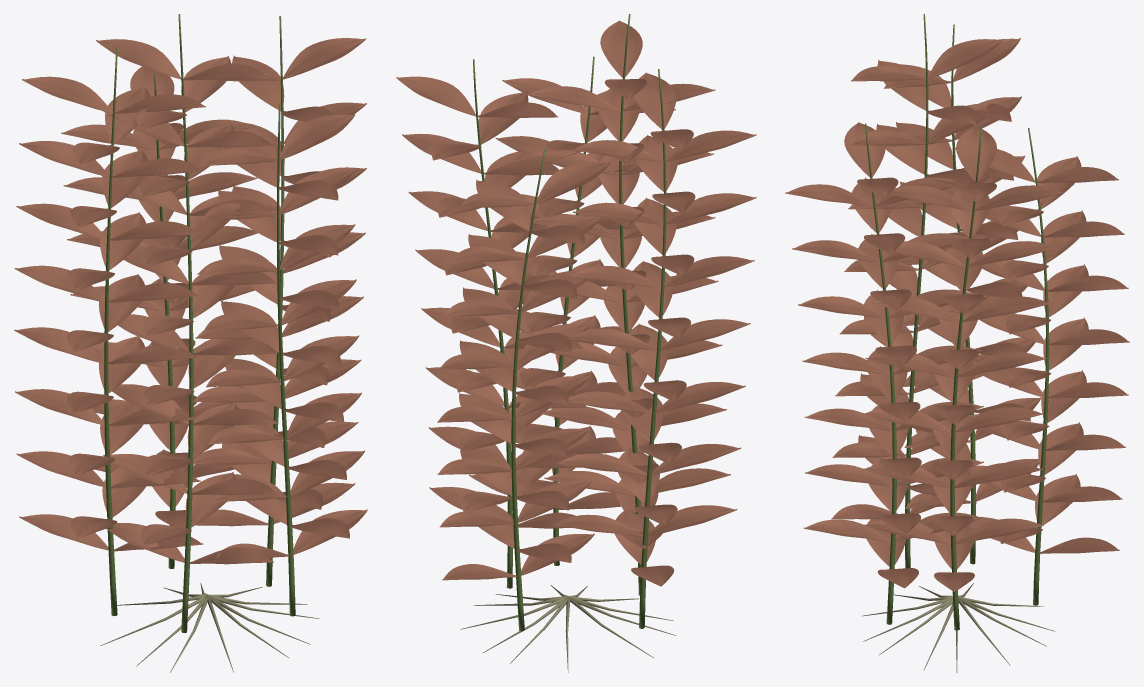
File: ludwigia-desktop.glb
3 renders of one model, left to right at view 1: azimuth 30°, elevation 25°; view 2: azimuth 150°, elevation 25°; view 3: azimuth 270°, elevation 25°, orthographic. The views are drawn at different scales.
Parts seen in each view (by area): view 1: opposite-leaf, branching-stem, anchoring-root; view 2: opposite-leaf, branching-stem, anchoring-root; view 3: opposite-leaf, branching-stem, anchoring-root.
Part boxes in pixels (bbox=[...]): opposite-leaf: bbox=[14, 38, 367, 564]; branching-stem: bbox=[104, 14, 295, 632]; anchoring-root: bbox=[100, 583, 319, 672]; opposite-leaf: bbox=[396, 20, 756, 586]; branching-stem: bbox=[473, 14, 666, 631]; anchoring-root: bbox=[460, 585, 676, 672]; opposite-leaf: bbox=[785, 38, 1129, 591]; branching-stem: bbox=[865, 14, 1049, 630]; anchoring-root: bbox=[862, 583, 1054, 672].
Bounding box in the file's own units: 0.4328 × 0.7956 × 0.419.
